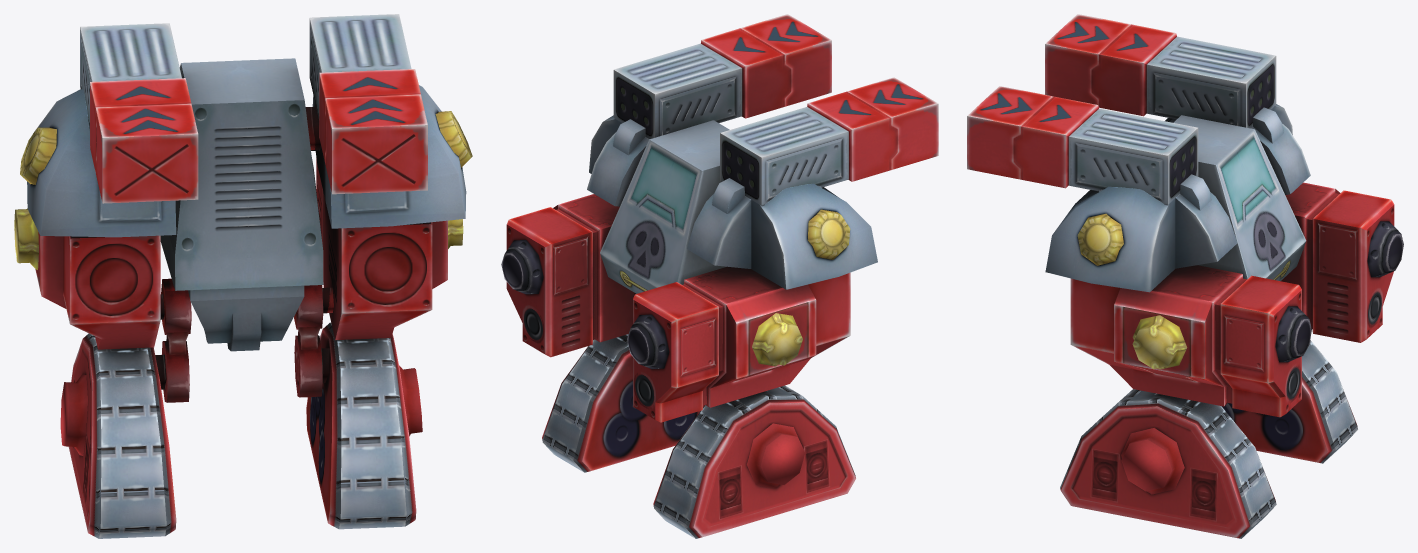
The model's file is Grunt.fbx.
3 renders of one model, left to right at view 1: azimuth 30°, elevation 25°; view 2: azimuth 150°, elevation 25°; view 3: azimuth 270°, elevation 25°, orthographic. The views are drawn at different scales.
Parts seen in each view (by area): view 1: Robot_Toy1; view 2: Robot_Toy1; view 3: Robot_Toy1.
Part boxes in pixels (x1,y1,x2,y2): Robot_Toy1: (14,14,472,538); Robot_Toy1: (501,14,938,538); Robot_Toy1: (967,14,1403,538).
Size of the model in its own units: 0.7526 by 0.783 by 0.83.
1 material, 1 textured.
